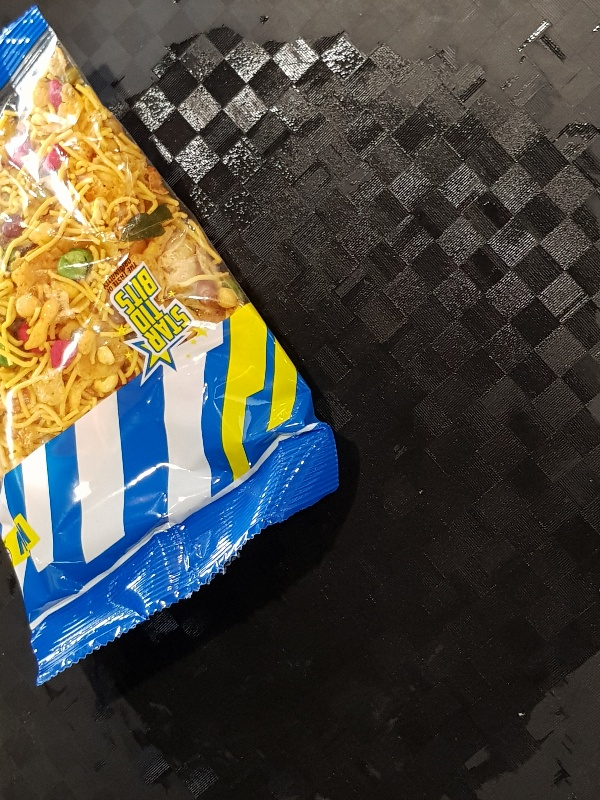Star Tidbits Mixer: (1, 4, 340, 686)
